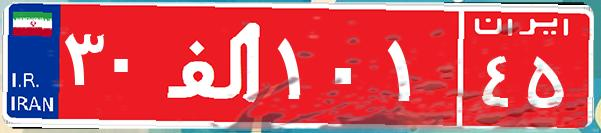0: (330, 28, 385, 110), (110, 28, 158, 105)
1: (385, 28, 445, 110), (273, 28, 330, 110)
3: (57, 26, 110, 107)
4: (475, 38, 525, 113)
5: (525, 38, 570, 115)
الف: (158, 15, 273, 115)
